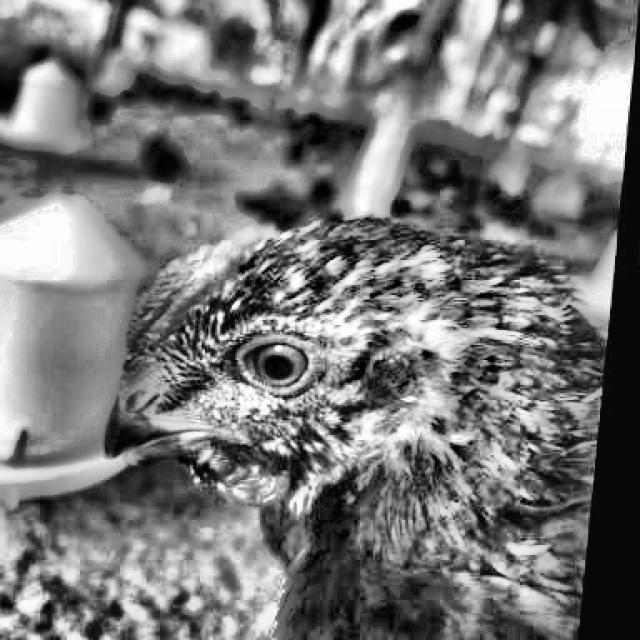Healthy: (212, 320, 336, 405)
